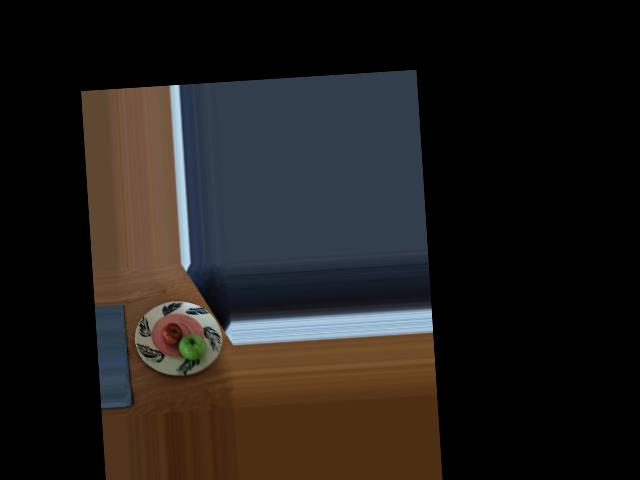apple: (177, 333, 208, 363)
